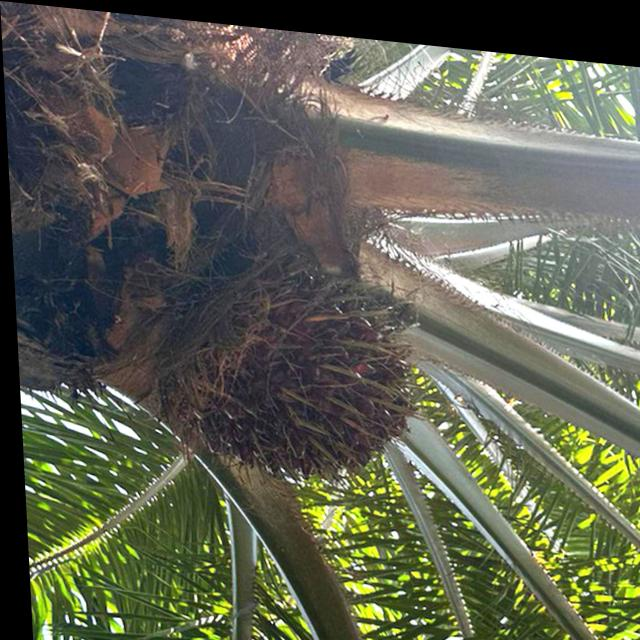ripe: (202, 261, 412, 485)
